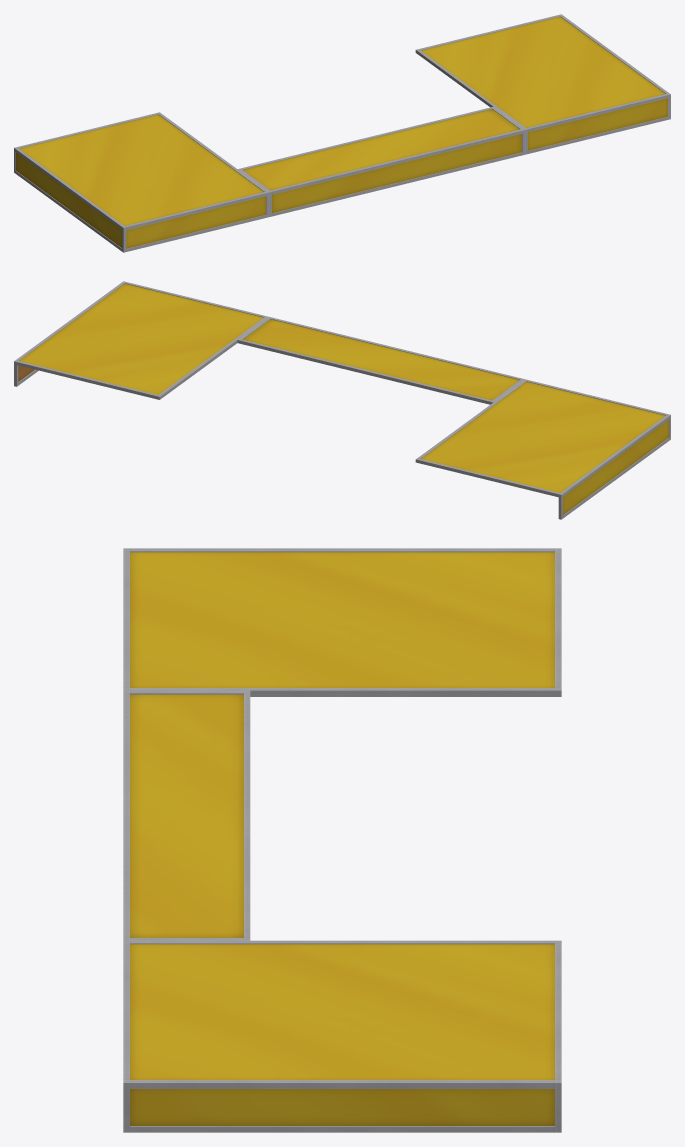
The model's file is jsf_2P_s03_c03_t03_DX.fbx.
3 renders of one model, top to bottom at view 1: azimuth 30°, elevation 25°; view 2: azimuth 150°, elevation 25°; view 3: azimuth 270°, elevation 25°, orthographic. The views are drawn at different scales.
Parts seen in each view (by area): view 1: jsf_2P_s03_c03_t03_DX; view 2: jsf_2P_s03_c03_t03_DX; view 3: jsf_2P_s03_c03_t03_DX.
Part boxes in pixels (bbox=[...]): jsf_2P_s03_c03_t03_DX: bbox=[14, 14, 670, 252]; jsf_2P_s03_c03_t03_DX: bbox=[14, 281, 670, 519]; jsf_2P_s03_c03_t03_DX: bbox=[123, 548, 561, 1132].
Size of the model in its own units: 289 by 12.51 by 100.
